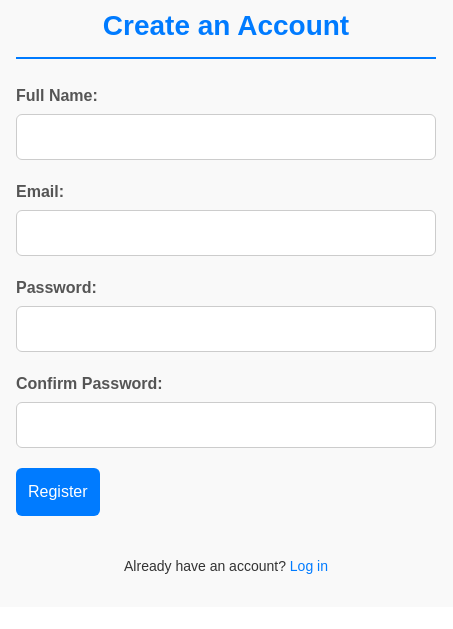
Test: <Register /> › shows error for weak password
In the field with test id "name-input": (226, 137) [16,114,436,160], type "Test User"
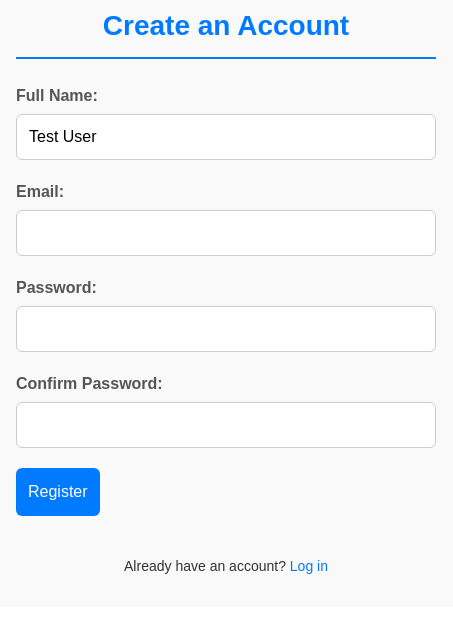
In the field with test id "email-input": (226, 233) [16,210,436,256], type "test@example.com"
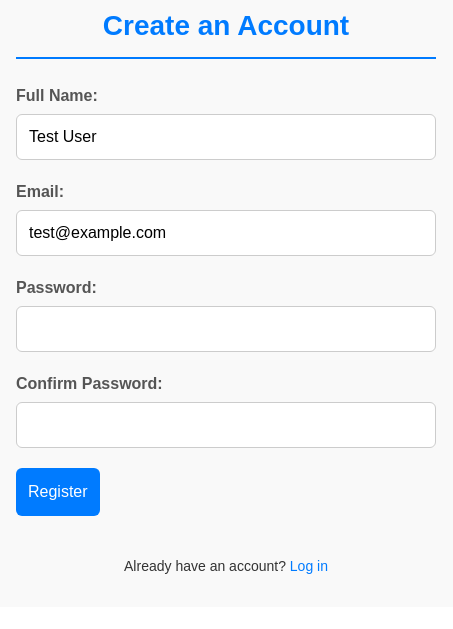
In the password field with test id "password-input": (226, 329) [16,306,436,352], type "abc"
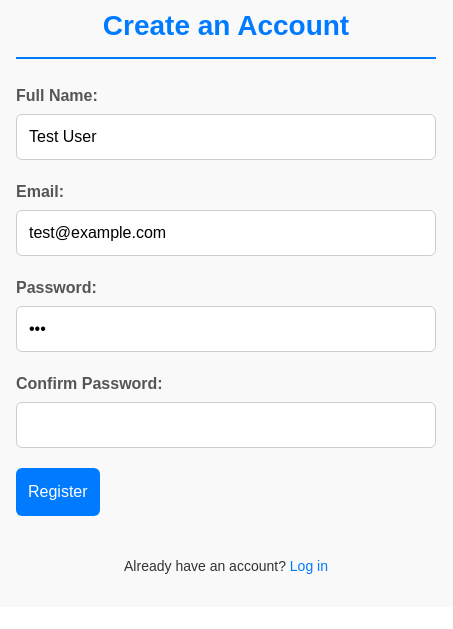
In the password field with test id "confirm-password-input": (226, 425) [16,402,436,448], type "abc"
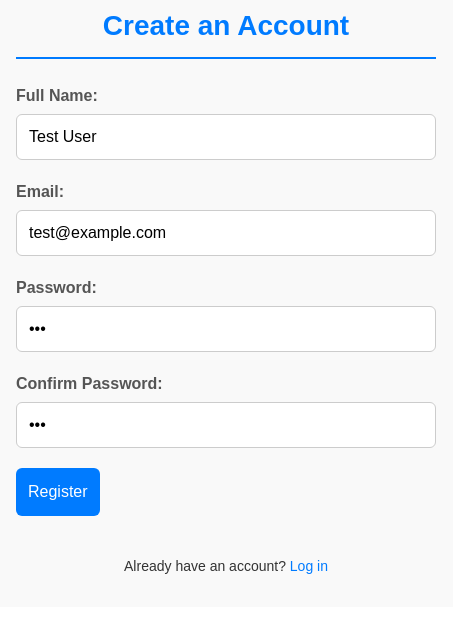
Click the button with test id "register-button": (58, 492) [16,468,100,516]
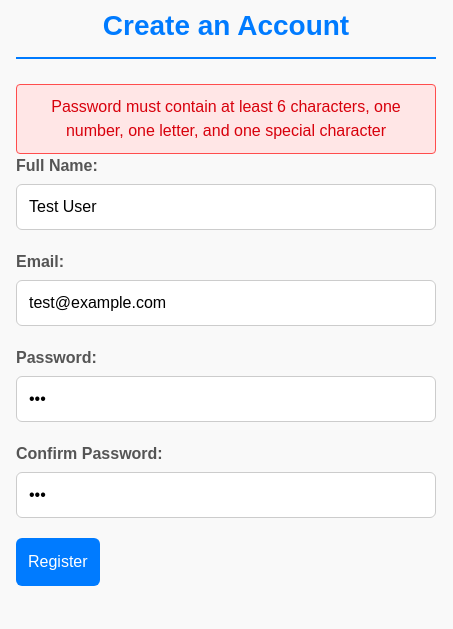
Check: the text "Password must contain at least 6 characters" is shown, box [51,98,401,139]
